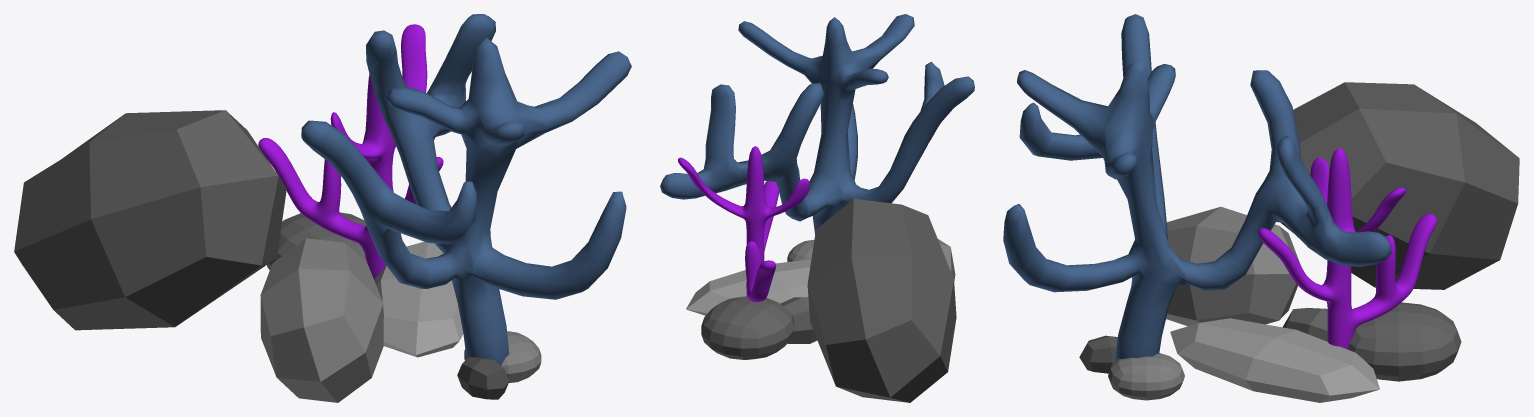
The model's file is Corals4.fbx.
3 views of the same model, side by side, from view 1: azimuth 30°, elevation 25°; view 2: azimuth 150°, elevation 25°; view 3: azimuth 270°, elevation 25° (orthographic). The views are drawn at different scales.
Visible parts, largest first — view 1: Cube.005, Cube, Cube.006, Cube.001, Cube.003, Cube.002, Cube.008, Cube.007; view 2: Cube.005, Cube, Cube.001, Cube.002, Cube.003, Cube.004, Cube.007; view 3: Cube, Cube.005, Cube.003, Cube.001, Cube.006, Cube.002, Cube.007, Cube.008, Cube.004.
Part boxes in pixels (x1=…): Cube.005: x1=14, y1=110, x2=286, y2=330; Cube: x1=301, y1=14, x2=631, y2=365; Cube.006: x1=260, y1=238, x2=383, y2=402; Cube.001: x1=258, y1=24, x2=443, y2=279; Cube.003: x1=374, y1=241, x2=463, y2=357; Cube.002: x1=267, y1=212, x2=367, y2=269; Cube.008: x1=457, y1=357, x2=509, y2=399; Cube.007: x1=464, y1=331, x2=541, y2=382; Cube.005: x1=807, y1=198, x2=956, y2=402; Cube: x1=660, y1=14, x2=974, y2=234; Cube.001: x1=678, y1=146, x2=809, y2=302; Cube.002: x1=701, y1=296, x2=794, y2=359; Cube.003: x1=686, y1=259, x2=811, y2=315; Cube.004: x1=780, y1=297, x2=817, y2=343; Cube.007: x1=787, y1=240, x2=814, y2=261; Cube: x1=1003, y1=14, x2=1391, y2=360; Cube.005: x1=1281, y1=82, x2=1519, y2=289; Cube.003: x1=1170, y1=318, x2=1379, y2=402; Cube.001: x1=1258, y1=147, x2=1437, y2=349; Cube.006: x1=1166, y1=206, x2=1299, y2=326; Cube.002: x1=1347, y1=302, x2=1461, y2=381; Cube.007: x1=1108, y1=353, x2=1184, y2=400; Cube.008: x1=1079, y1=335, x2=1117, y2=373; Cube.004: x1=1283, y1=308, x2=1327, y2=341.
Size of the model in its own units: 1208 by 927 by 1297.
